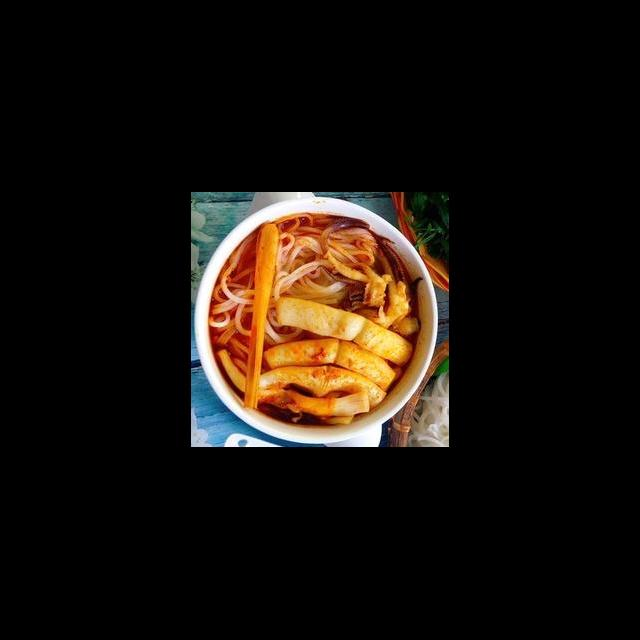bun: (261, 212, 379, 352), (206, 234, 261, 378)
muc: (213, 346, 372, 416), (273, 296, 415, 368), (338, 234, 428, 332), (261, 336, 399, 394), (315, 214, 394, 314), (254, 362, 388, 412)
